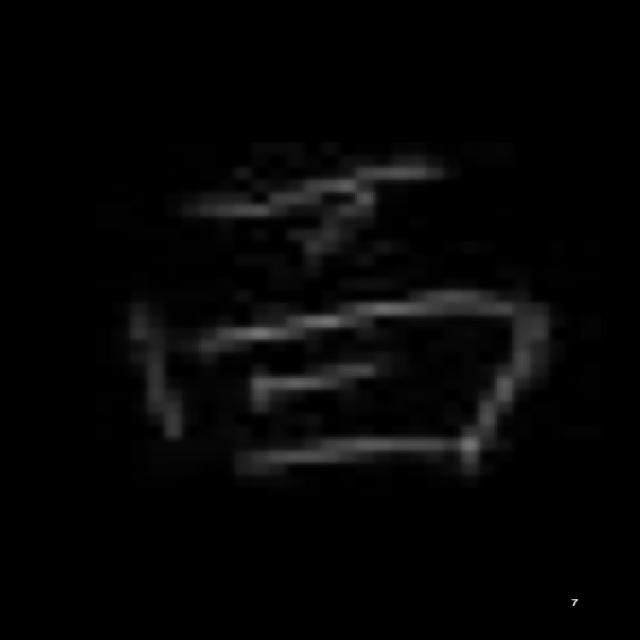100 -a hundred-: (124, 154, 568, 468)
